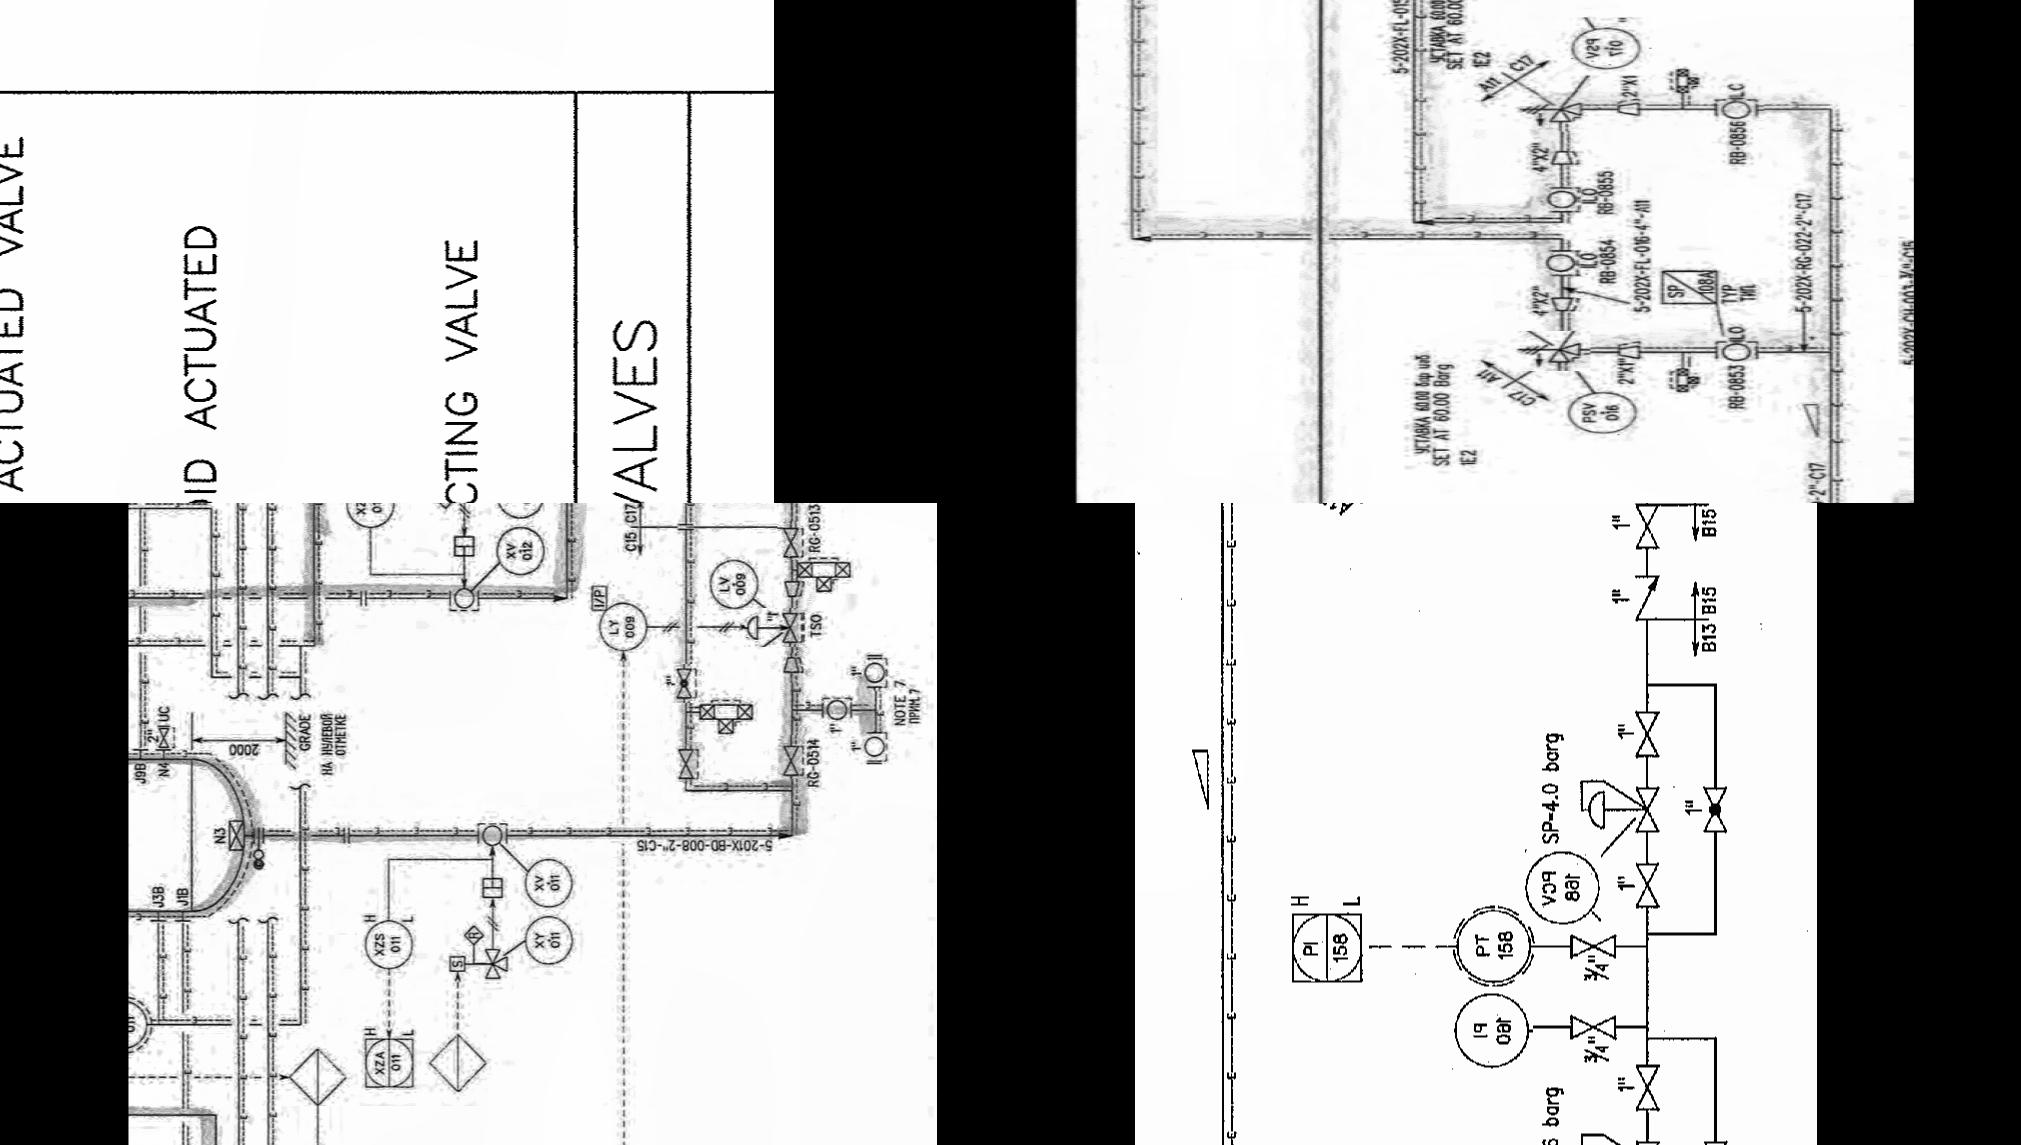2 WAY VALVE: (694, 693, 762, 737), (795, 554, 858, 593)
3 WAY GENERAL VALVE: (482, 940, 511, 984)
CONCENTRIC REDUCER: (777, 651, 811, 681), (779, 576, 805, 598)
DCS ACCESSIBLE: (1289, 905, 1369, 984), (355, 1031, 423, 1091)
DIAPHRAGM ACTUATED VALVE: (745, 607, 805, 645)
FIELD INSTRUMENT: (1452, 985, 1535, 1070), (1453, 901, 1531, 990), (1527, 847, 1603, 924), (708, 550, 759, 613), (595, 598, 647, 656), (523, 856, 577, 910), (364, 916, 415, 970), (493, 523, 541, 573), (525, 915, 572, 965), (337, 502, 398, 527), (856, 730, 894, 766), (448, 580, 484, 615), (862, 654, 891, 688), (820, 694, 855, 723), (477, 822, 511, 849), (496, 502, 544, 518)
GATE VALVE: (1628, 1056, 1666, 1116), (1628, 855, 1666, 912), (1631, 705, 1666, 765), (1566, 933, 1623, 960), (1632, 502, 1661, 557), (1563, 1012, 1618, 1040), (779, 733, 809, 777), (673, 741, 702, 780), (779, 519, 808, 558)
GLOBE VALVE: (1700, 781, 1730, 837), (672, 662, 700, 701), (1700, 1137, 1734, 1145)
HARDWIRED INTERLOCK PRIMARY.: (428, 1026, 491, 1096), (283, 1045, 350, 1108), (464, 922, 484, 945), (432, 502, 457, 512)
IP CONVERTER: (584, 577, 612, 619)
SELF ACTING VALVE: (1575, 772, 1664, 840), (1575, 1128, 1661, 1145)
SPECTACLE BLIND OPEN: (244, 816, 272, 877)
SPEED FLOW METER: (444, 952, 469, 978)
